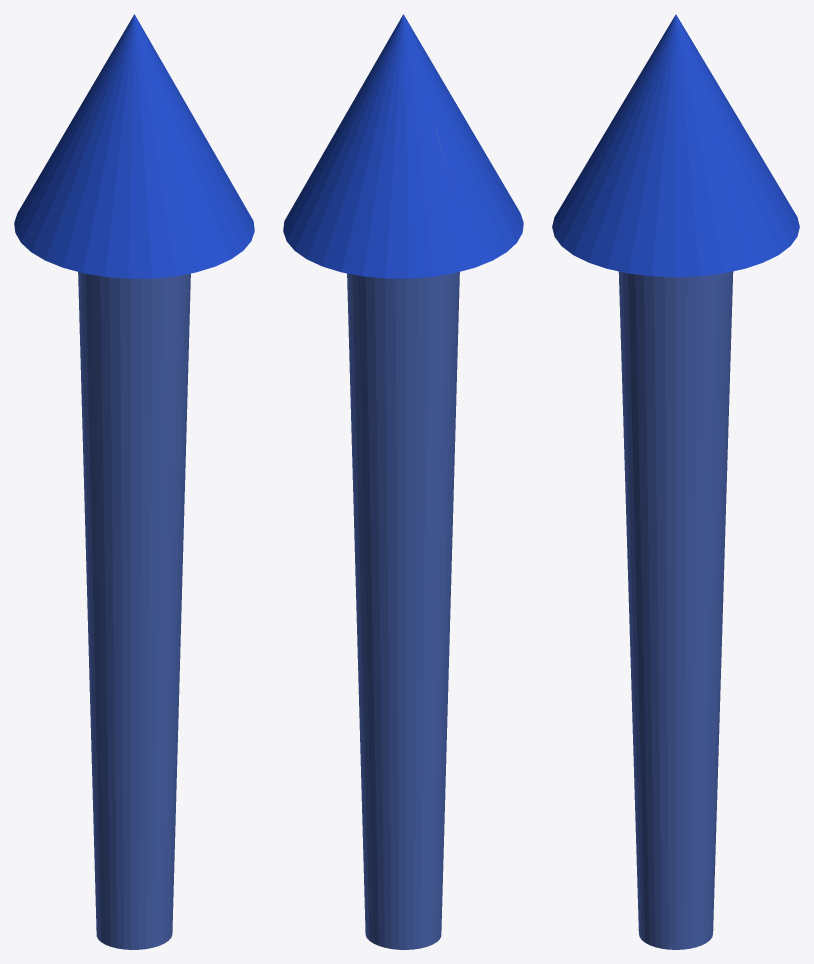
The model's file is arrow.fbx.
3 renders of one model, left to right at view 1: azimuth 30°, elevation 25°; view 2: azimuth 150°, elevation 25°; view 3: azimuth 270°, elevation 25°, orthographic.
Parts seen in each view (by area): view 1: Cylinder; view 2: Cylinder; view 3: Cylinder.
Part boxes in pixels (x1=…): Cylinder: x1=14, y1=14, x2=254, y2=949; Cylinder: x1=283, y1=14, x2=523, y2=949; Cylinder: x1=552, y1=14, x2=799, y2=949.
Size of the model in its own units: 0.5652 by 2.41 by 0.5873.
Materials: 1 (1 with a texture image).
